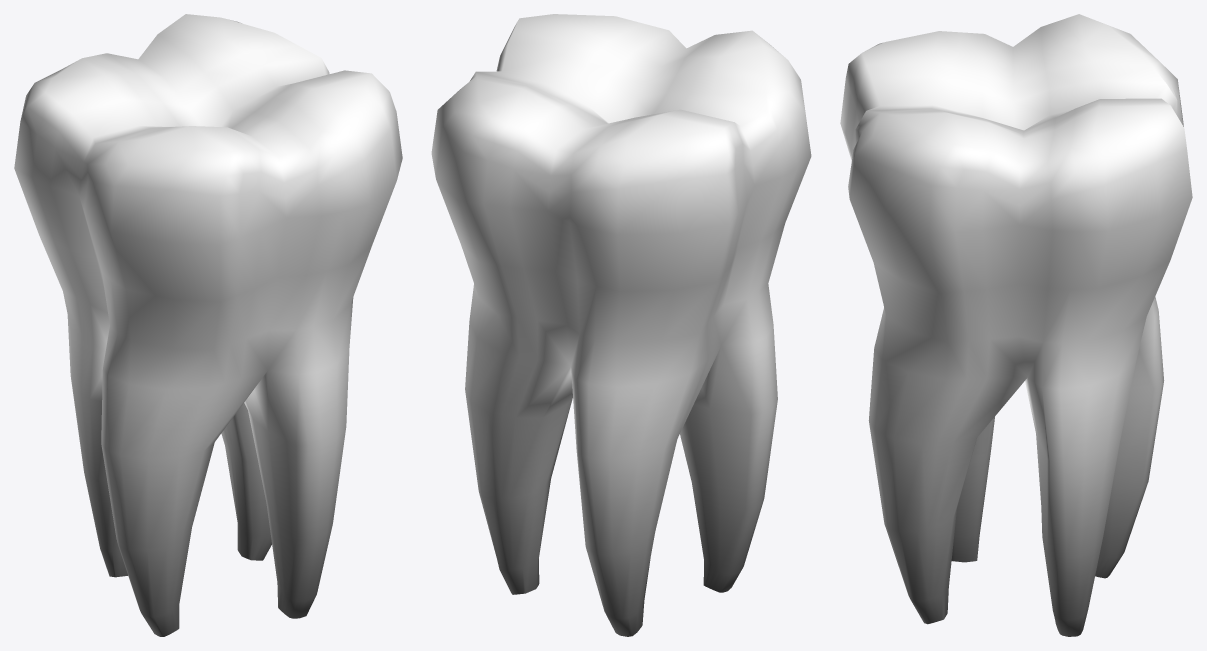
The model's file is tooth.fbx.
The picture shows the model from 3 angles, left to right: view 1: azimuth 30°, elevation 25°; view 2: azimuth 150°, elevation 25°; view 3: azimuth 270°, elevation 25°; orthographic projection.
Visible parts, largest first — view 1: Tooth; view 2: Tooth; view 3: Tooth.
Part boxes in pixels (box(x1,y1,x2,y2)): Tooth: box(14, 14, 402, 636); Tooth: box(431, 14, 811, 636); Tooth: box(840, 14, 1192, 636).
Bounding box in the file's own units: 1.07 × 1.73 × 1.07.
